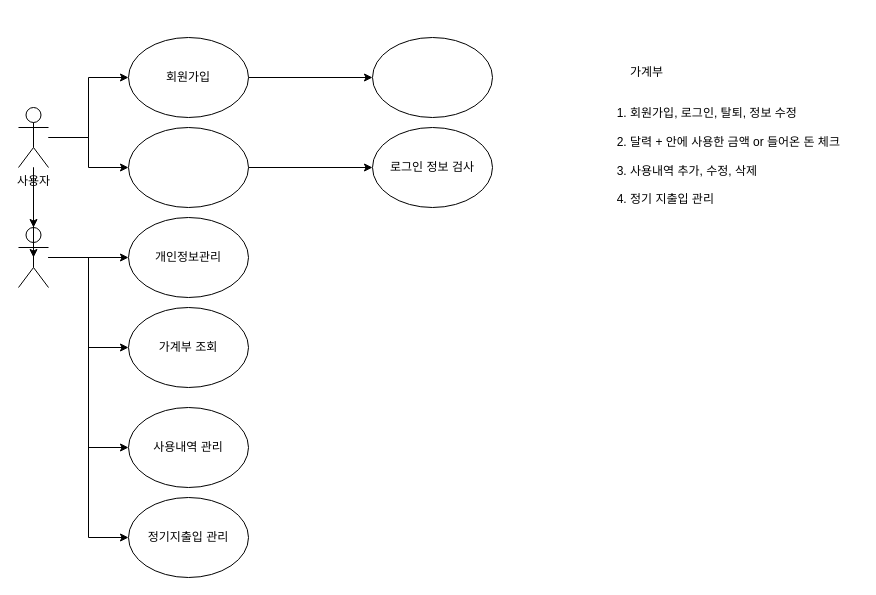
This 876x595 diagram has some shape labels left out. Here are the shapes that lost their labels. From the top down, the centre of each, then its label:
At (432,77): "회원가입 검사".
At (188,167): "로그인".
At (33,257): "회원".
